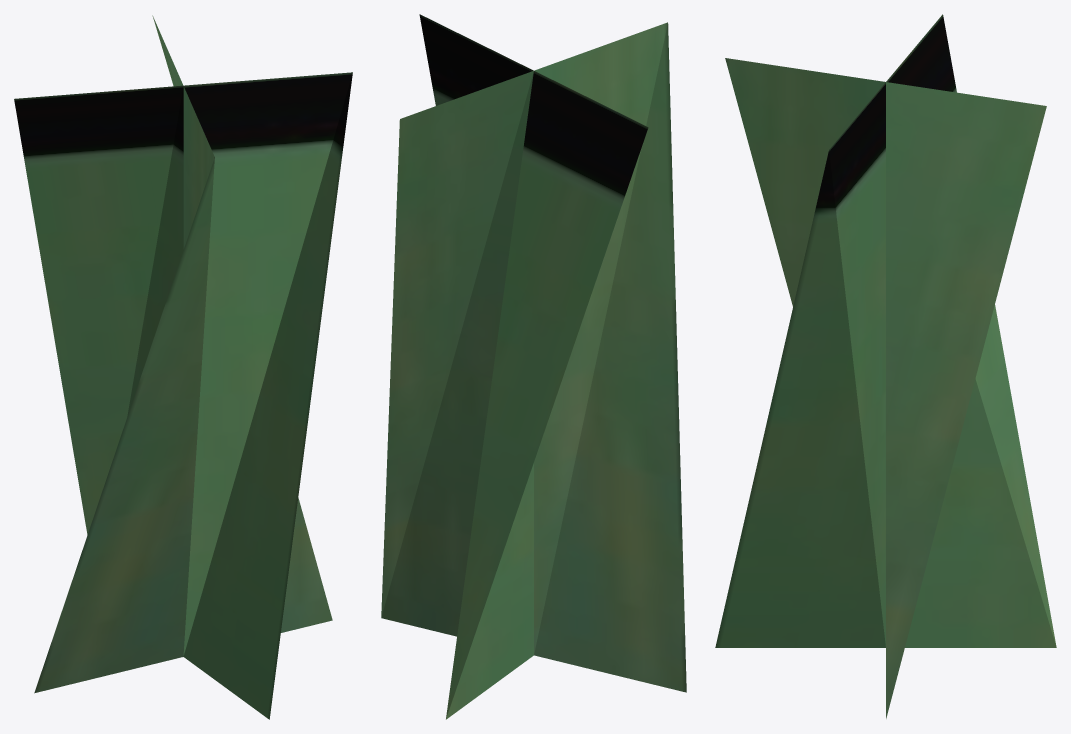
File: Canyon_Sticks_1.glb
3 renders of one model, left to right at view 1: azimuth 30°, elevation 25°; view 2: azimuth 150°, elevation 25°; view 3: azimuth 270°, elevation 25°, orthographic. The views are drawn at different scales.
Parts seen in each view (by area): view 1: Canyon_Sticks_1_0; view 2: Canyon_Sticks_1_0; view 3: Canyon_Sticks_1_0.
Boxes of the visible parts, x1,y1,x2,y2 form: Canyon_Sticks_1_0: (14,15,352,719); Canyon_Sticks_1_0: (381,14,686,719); Canyon_Sticks_1_0: (715,14,1056,718).
Bounding box in the file's own units: 0.5799 × 1.06 × 0.5799.
Materials: 1 (1 with a texture image).
